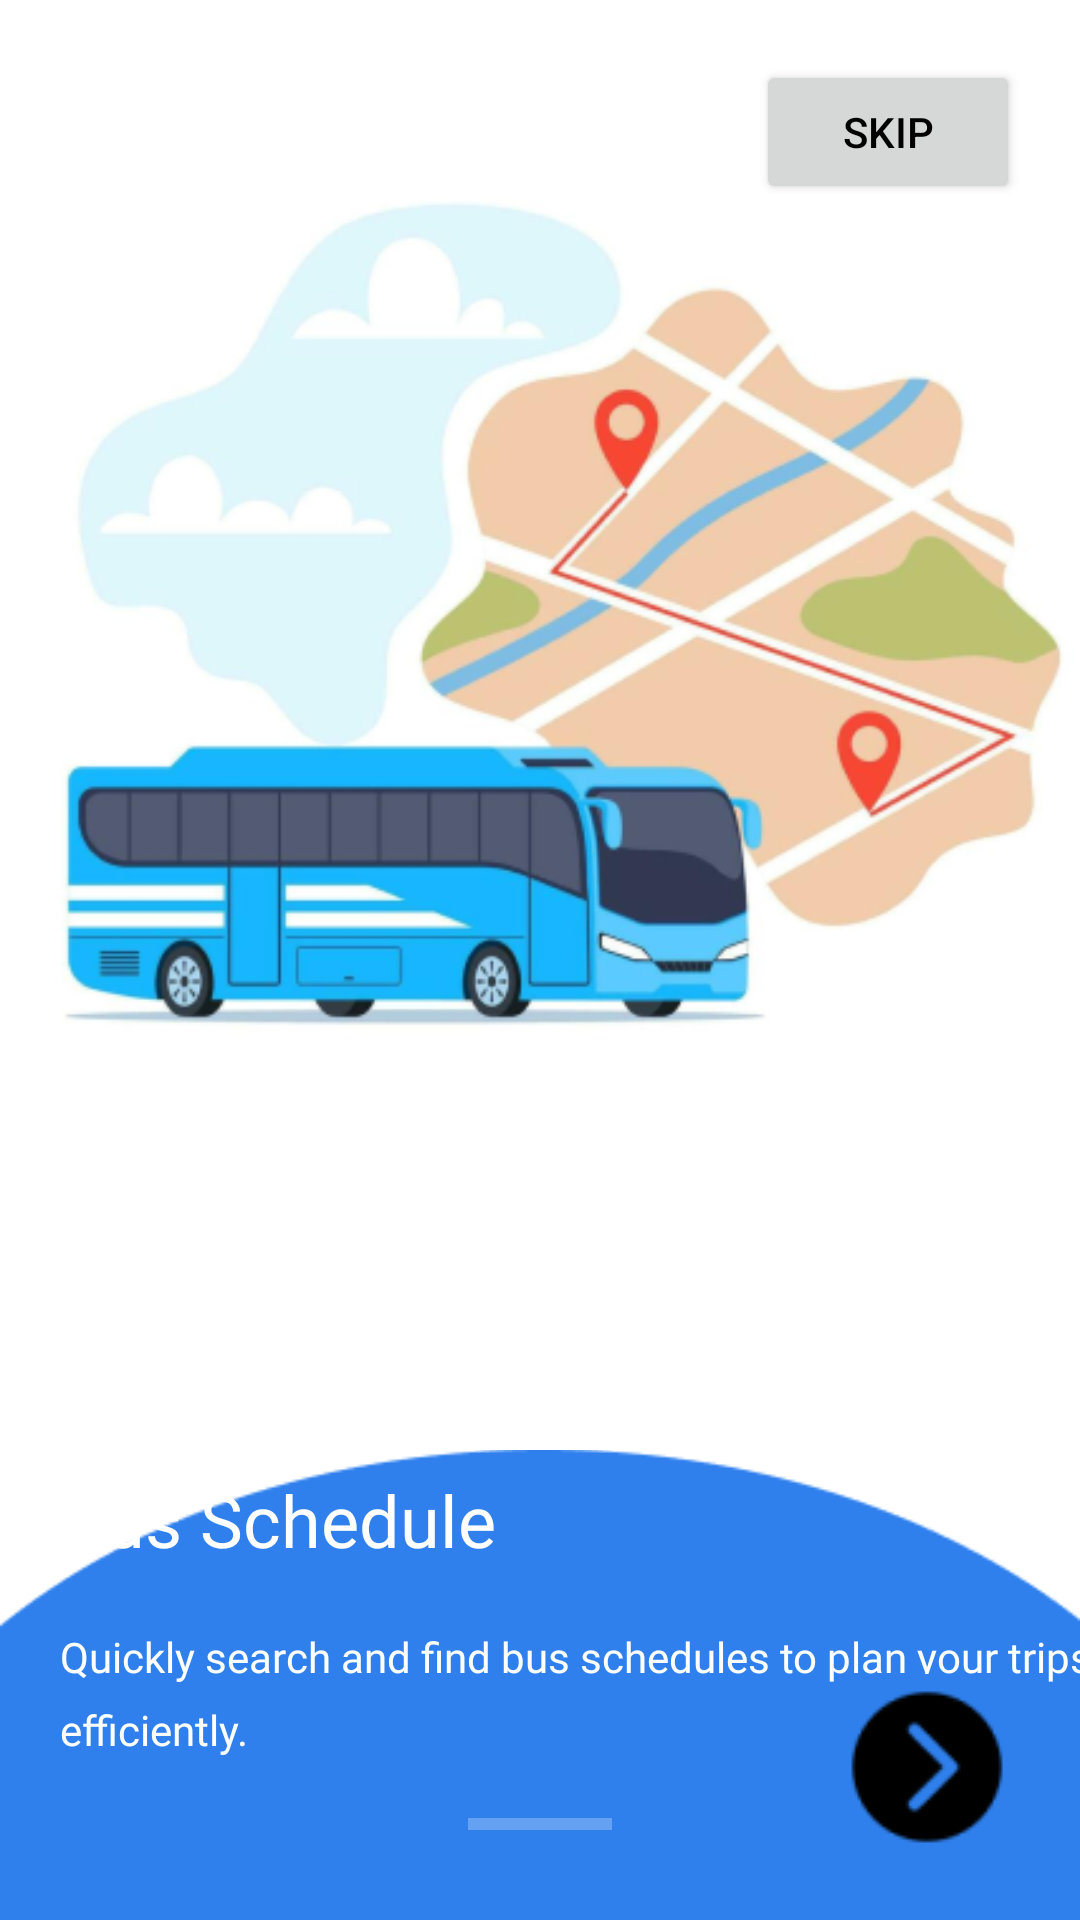

Locate icon controls on the screen. Image size 1080w x 1920h, boxes as (x1, y1, x2, y2).
next: (851, 1691, 1003, 1843)
